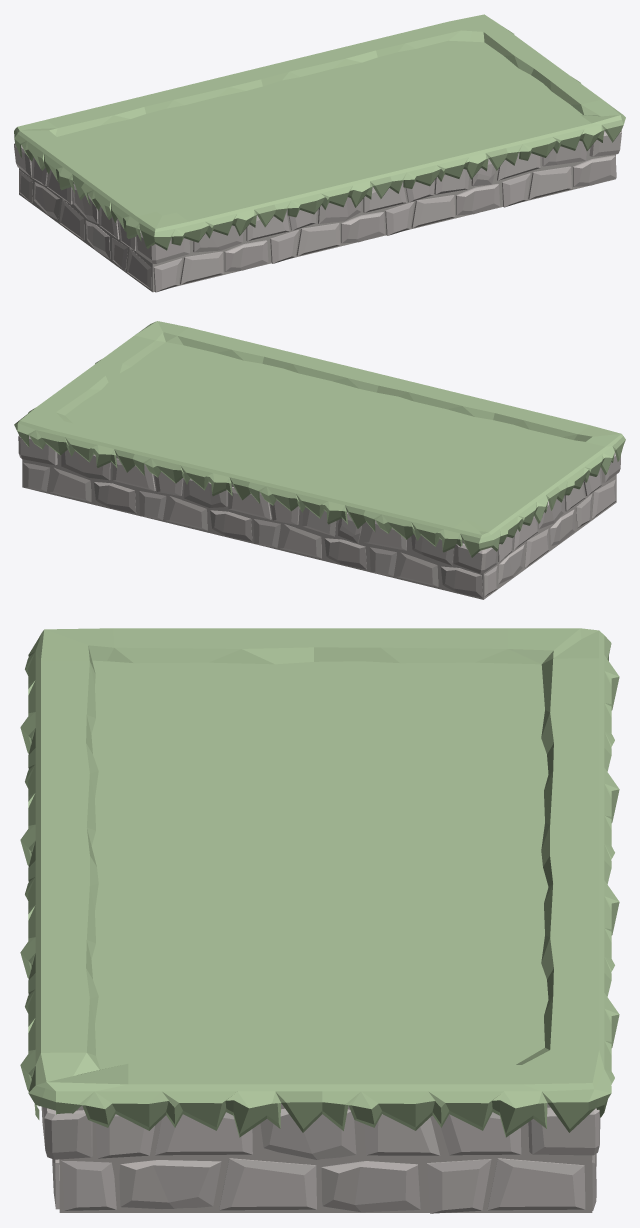
The model's file is ER_Asset_2x4Platform.fbx.
The picture shows the model from 3 angles, top to bottom: view 1: azimuth 30°, elevation 25°; view 2: azimuth 150°, elevation 25°; view 3: azimuth 270°, elevation 25°; orthographic projection. The views are drawn at different scales.
Parts seen in each view (by area): view 1: polySurface6460; view 2: polySurface6460; view 3: polySurface6460.
Boxes of the visible parts, x1,y1,x2,y2 form: polySurface6460: [14, 14, 625, 292]; polySurface6460: [14, 321, 625, 599]; polySurface6460: [20, 628, 619, 1213].
Bounding box in the file's own units: 4.21 × 0.5544 × 2.25.
